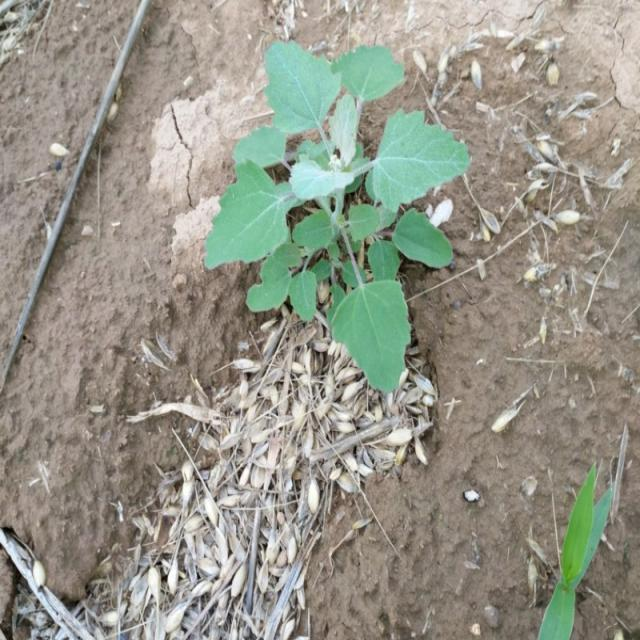goosefoots: (226, 25, 456, 370)
